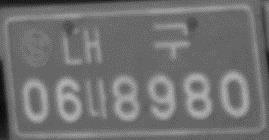0: (219, 70, 251, 118), (20, 77, 51, 123)
6: (54, 76, 84, 121)
8: (181, 72, 215, 120), (111, 74, 142, 121)
9: (146, 72, 177, 121)
나: (83, 76, 112, 121)
대구_D: (60, 20, 193, 67)
영: (17, 28, 54, 68)
